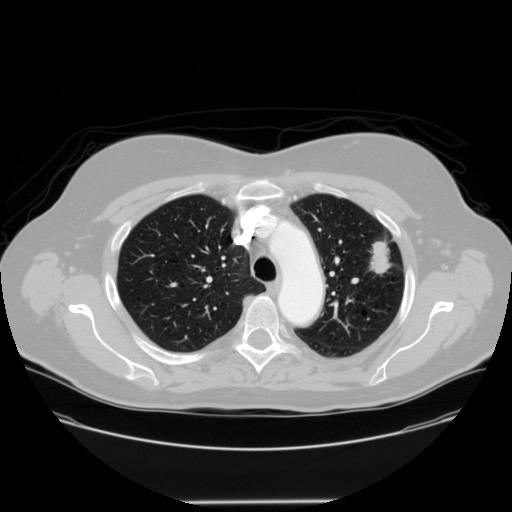nodule: (364, 242, 397, 275)
